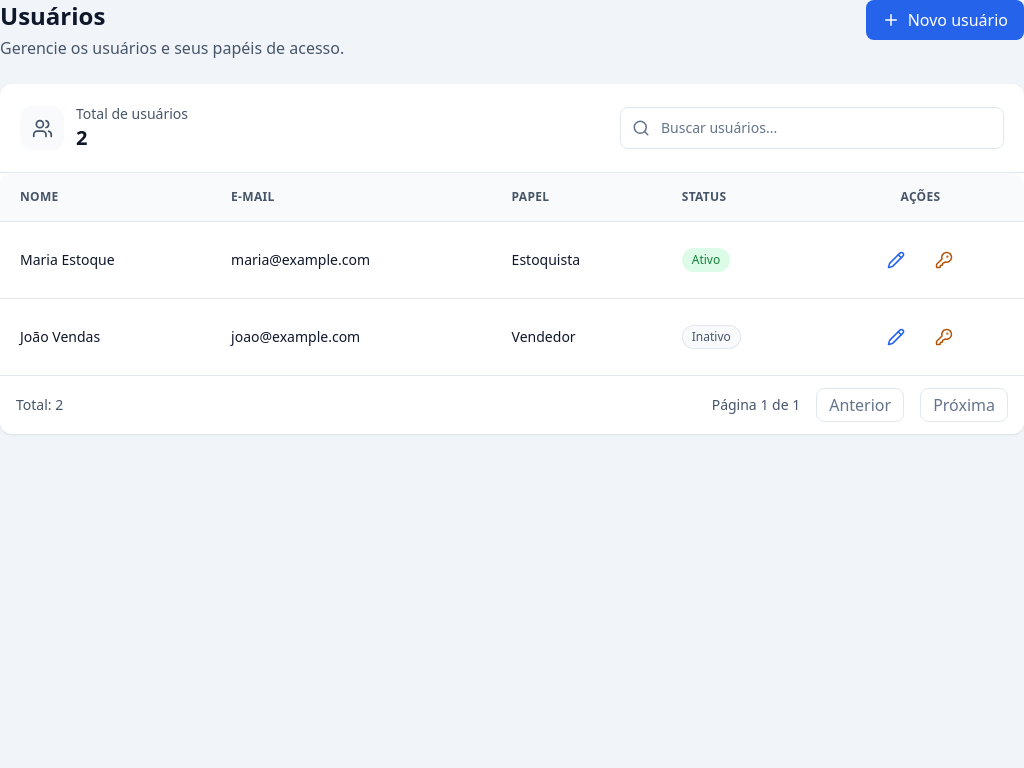
Test: UserListPage › editar: 409 LAST_ADMIN mostra a mensagem do backend
Expected: the text "Maria Estoque" is shown, [0,222,211,298]
Click the button named "Editar Maria Estoque" at (896, 260), box [874,238,918,282]
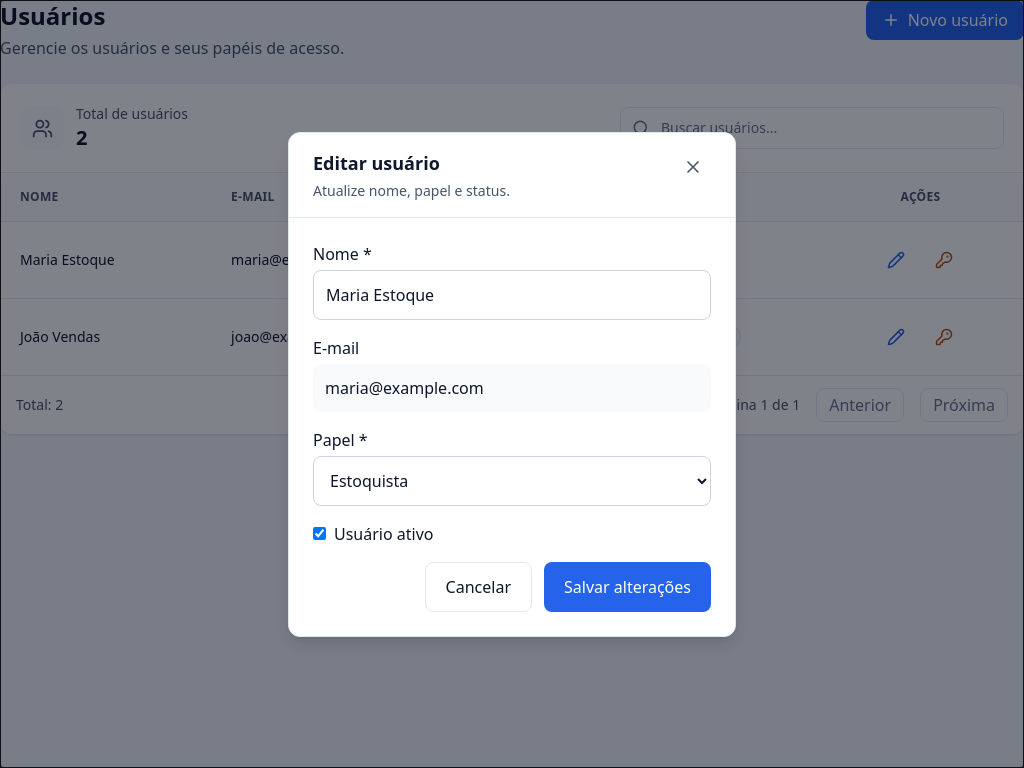
Click the checkbox labelled "Usuário ativo" at (320, 534), box [313,527,326,540]
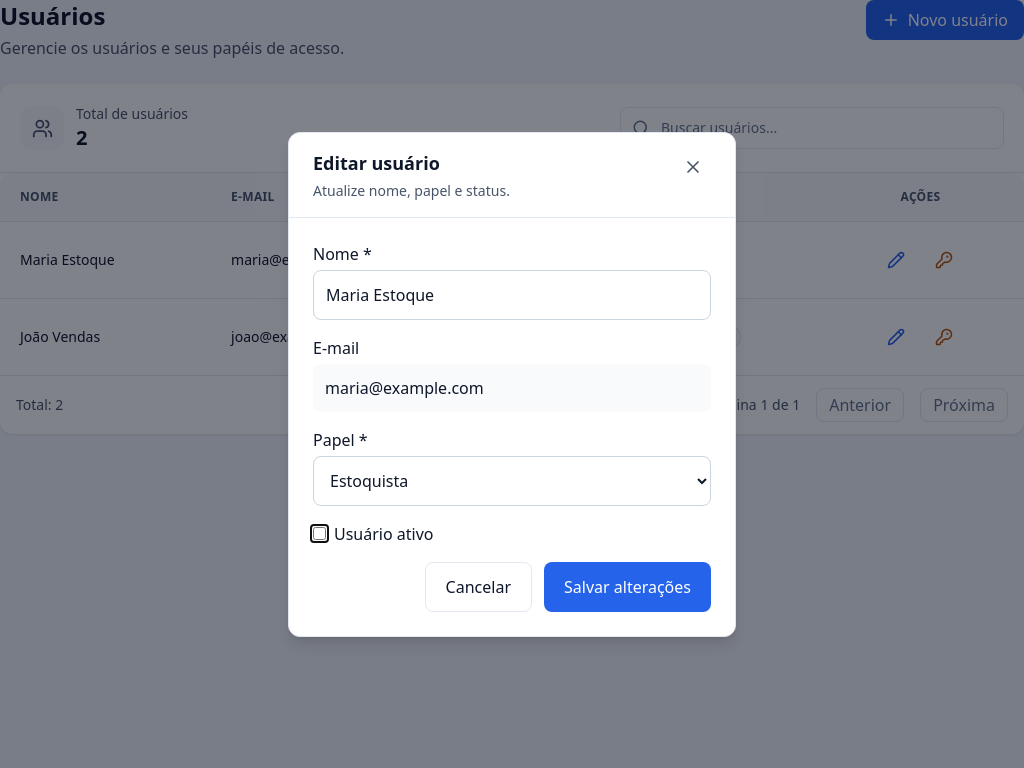
Click the button "Salvar alterações" at (628, 586), box [544,562,711,612]
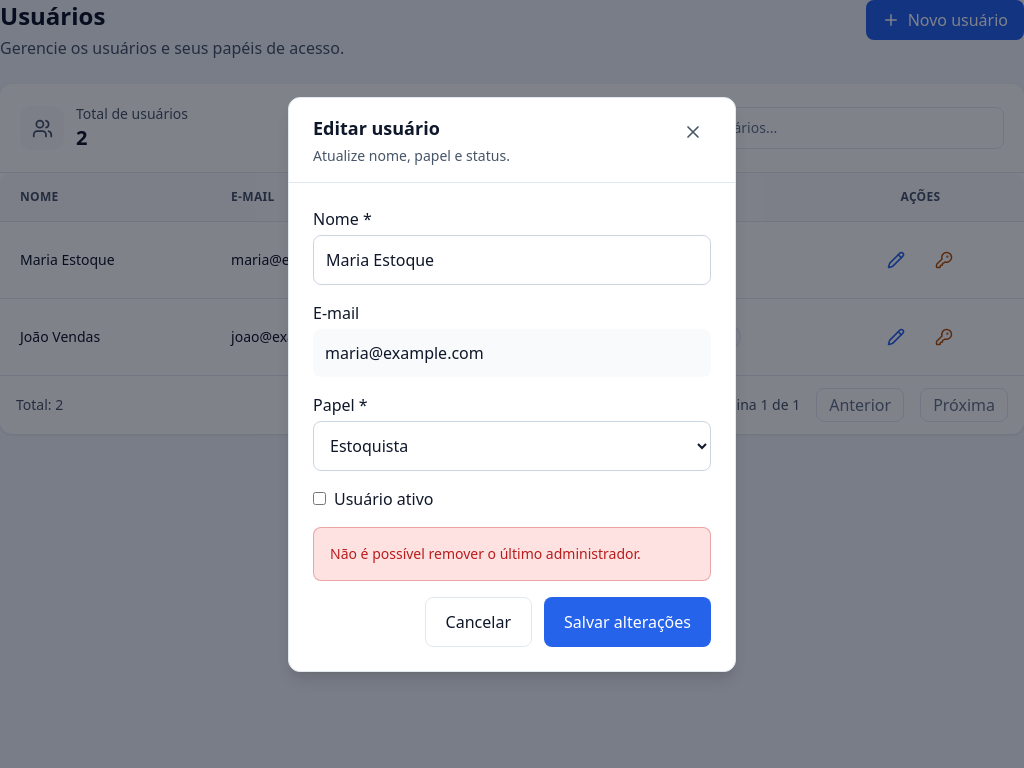
Result: the dialog is shown
Result: the text "Não é possível remover o último administrador." is shown at [313,526,711,580]
